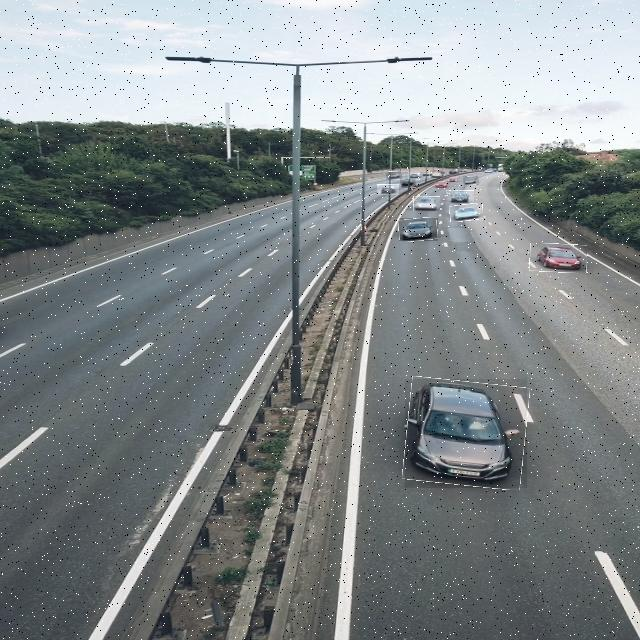Car: (405, 379, 527, 488), (530, 243, 587, 273), (399, 218, 438, 241), (450, 204, 483, 221), (413, 196, 440, 211), (446, 190, 474, 203), (377, 184, 399, 195), (463, 176, 479, 185), (400, 179, 416, 188), (435, 180, 449, 190), (386, 172, 402, 180), (429, 170, 442, 178), (408, 172, 420, 180)
